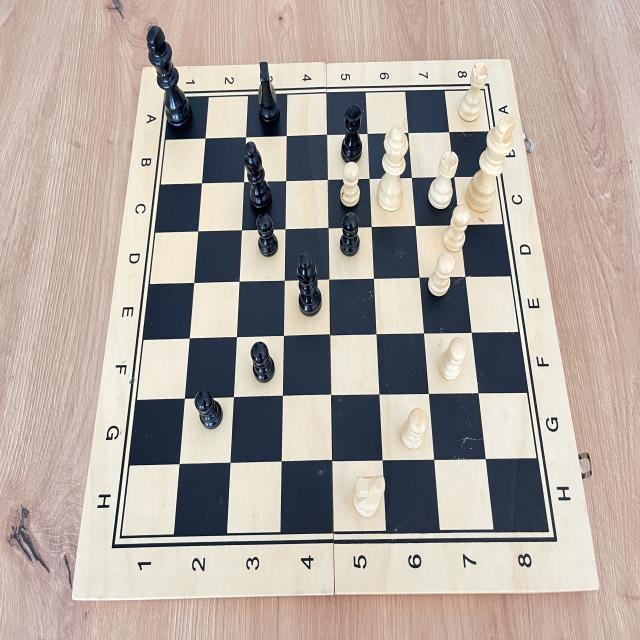black-bishop: (237, 137, 276, 220), (290, 242, 326, 322)
black-king: (143, 18, 197, 140)
black-knight: (248, 53, 288, 141)
black-pawn: (250, 208, 284, 264), (191, 382, 227, 434), (335, 207, 365, 264), (246, 336, 279, 386)
black-rook: (335, 96, 370, 177)
white-bishop: (344, 467, 393, 526)
white-king: (458, 112, 518, 226)
white-pawn: (438, 200, 475, 258), (435, 330, 472, 386), (396, 401, 433, 457), (426, 248, 457, 303), (333, 159, 364, 212)
white-queen: (369, 116, 413, 217)
white-rook: (454, 58, 494, 135), (426, 144, 463, 213)
